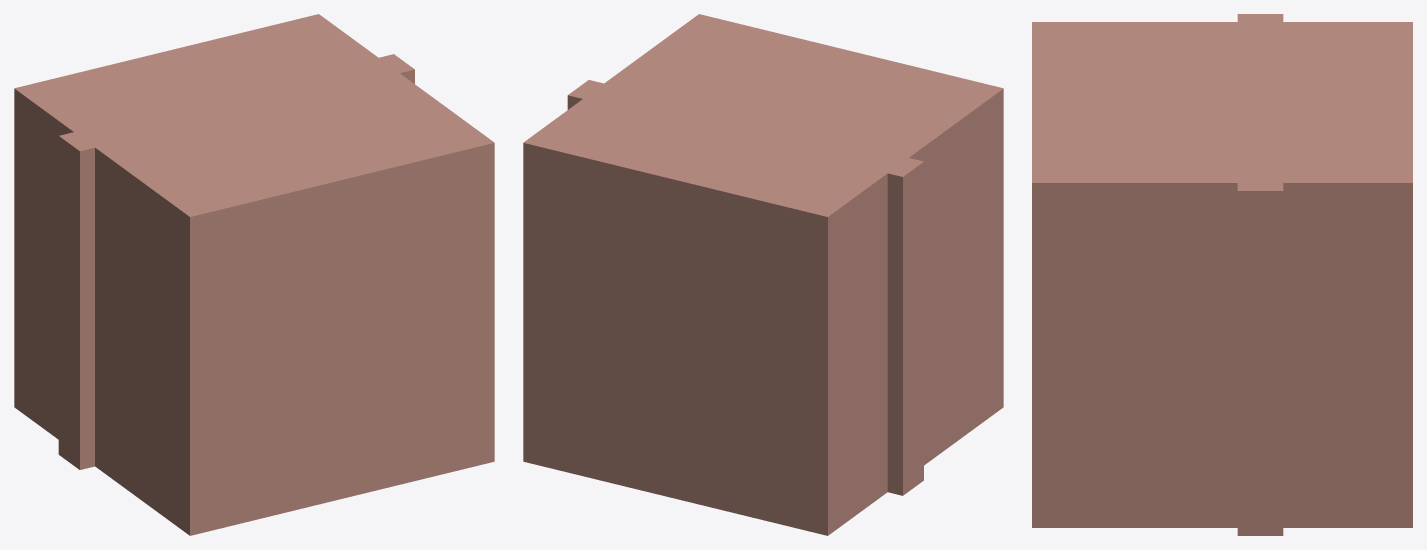
Rendered from 88_roof_tile.glb.
3 renders of one model, left to right at view 1: azimuth 30°, elevation 25°; view 2: azimuth 150°, elevation 25°; view 3: azimuth 270°, elevation 25°, orthographic. The views are drawn at different scales.
Visible parts, largest first — view 1: Core, Tile_0, Tile_2, Tile_1, Tile_4, Tile_3; view 2: Core, Tile_0, Tile_3; view 3: Core, Tile_4, Tile_2, Tile_3, Tile_1, Tile_0.
Part boxes in pixels (x1=…): Core: x1=14, y1=14, x2=494, y2=535; Tile_0: x1=58, y1=119, x2=146, y2=469; Tile_2: x1=158, y1=61, x2=245, y2=88; Tile_1: x1=113, y1=90, x2=195, y2=121; Tile_4: x1=327, y1=54, x2=414, y2=85; Tile_3: x1=243, y1=57, x2=322, y2=89; Core: x1=523, y1=14, x2=1003, y2=535; Tile_0: x1=850, y1=146, x2=923, y2=495; Tile_3: x1=619, y1=109, x2=702, y2=140; Core: x1=1032, y1=22, x2=1412, y2=527; Tile_4: x1=1237, y1=155, x2=1283, y2=535; Tile_2: x1=1314, y1=84, x2=1359, y2=120; Tile_3: x1=1275, y1=120, x2=1321, y2=155; Tile_1: x1=1275, y1=49, x2=1321, y2=84; Tile_0: x1=1237, y1=14, x2=1283, y2=48.
Bounding box in the file's own units: 1.1 × 1 × 1.
